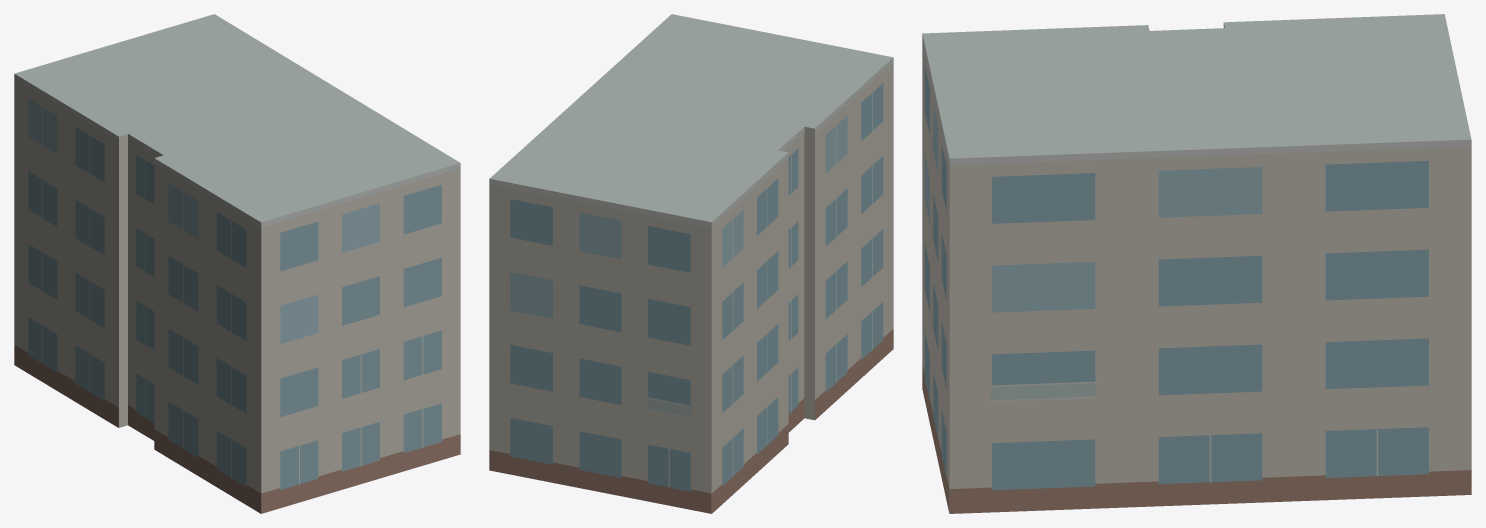
The model's file is survey-upis-32625718.glb.
3 renders of one model, left to right at view 1: azimuth 30°, elevation 25°; view 2: azimuth 150°, elevation 25°; view 3: azimuth 270°, elevation 25°, orthographic. The views are drawn at different scales.
Visible parts, largest first — view 1: survey-upis-32625718.tmp; view 2: survey-upis-32625718.tmp; view 3: survey-upis-32625718.tmp.
Part boxes in pixels (x1,y1,x2,y2): survey-upis-32625718.tmp: [14, 14, 460, 513]; survey-upis-32625718.tmp: [489, 14, 893, 513]; survey-upis-32625718.tmp: [922, 14, 1471, 513].
Bounding box in the file's own units: 11.19 × 12.8 × 17.94.
